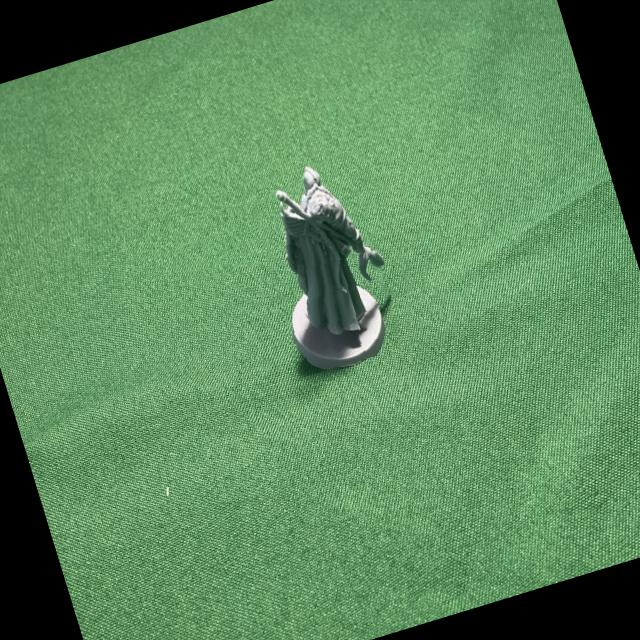isis_follower: (242, 150, 408, 378)
